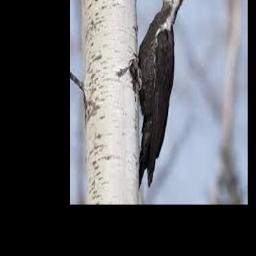Woodpecker: (132, 0, 190, 191)
